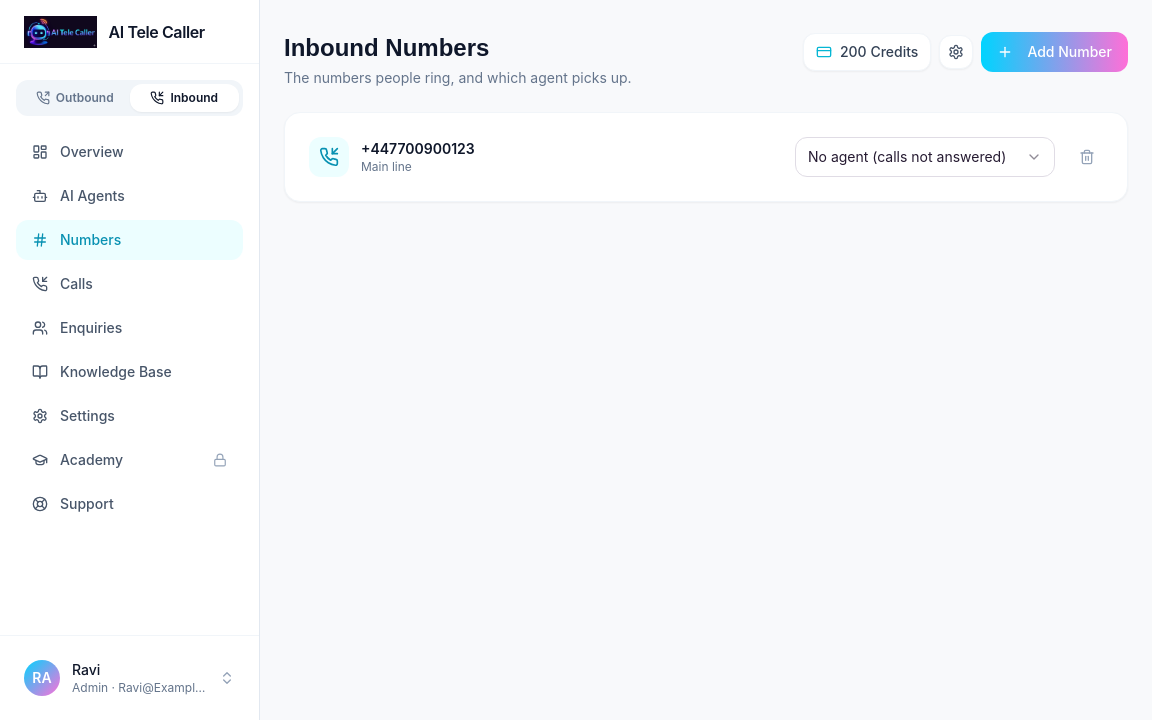
Test: the Add Number dialog › closes on Cancel without saving anything
The width and height of the screenshot is (1152, 720).
Click the button "Add Number" at [1055, 52], box [981,32,1128,72]
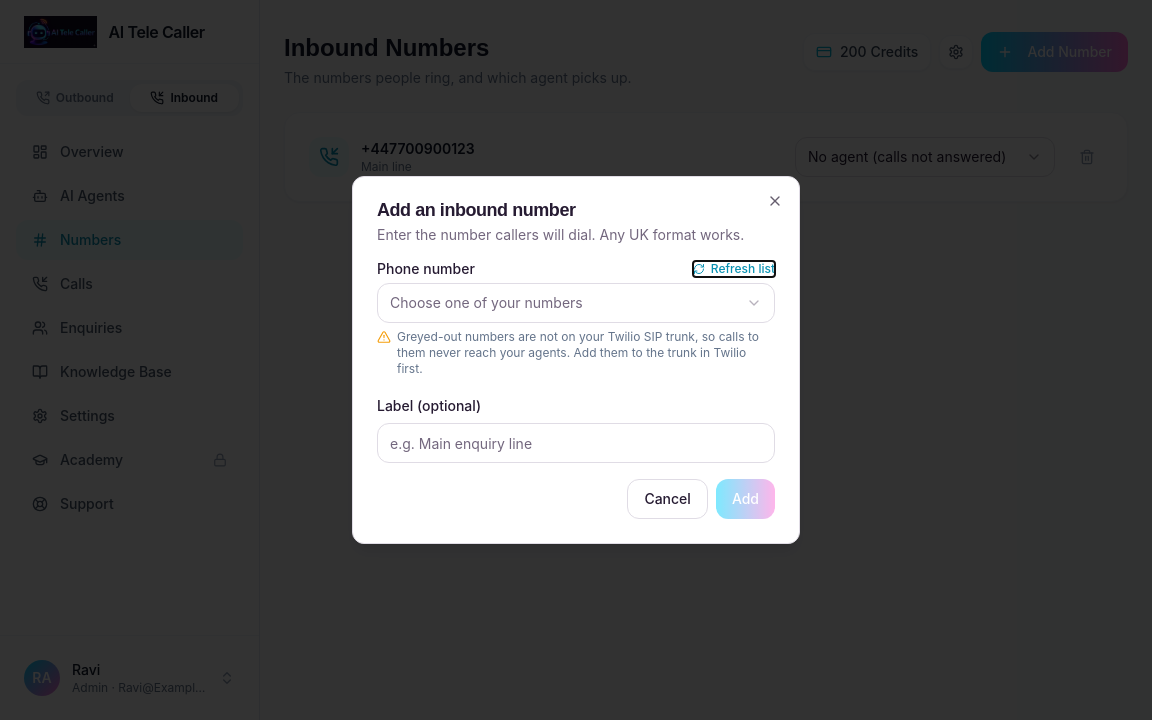
Click the button "Cancel" at [668, 499], box [627,479,708,519]
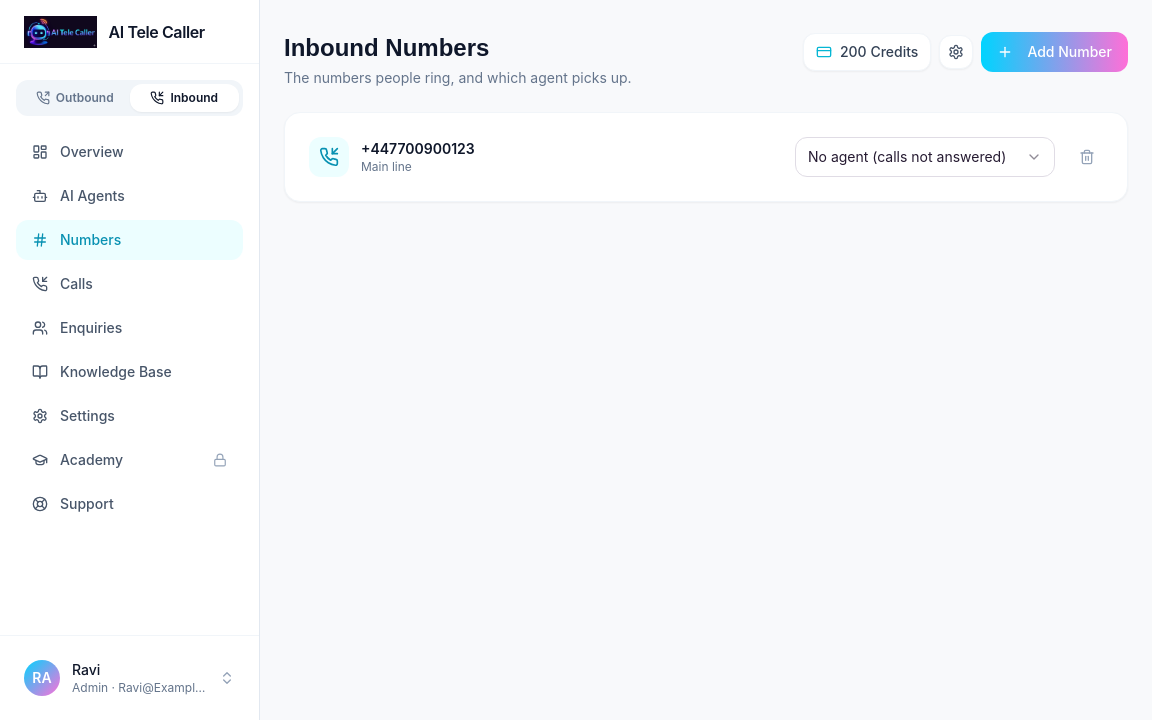
Check: the dialog is gone
